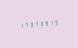five: (52, 18, 56, 26)
nine: (42, 19, 46, 27)
one: (17, 21, 21, 29), (47, 19, 51, 26)
seven: (22, 21, 26, 29), (32, 20, 36, 28)
three: (27, 21, 31, 28), (37, 20, 41, 27)
